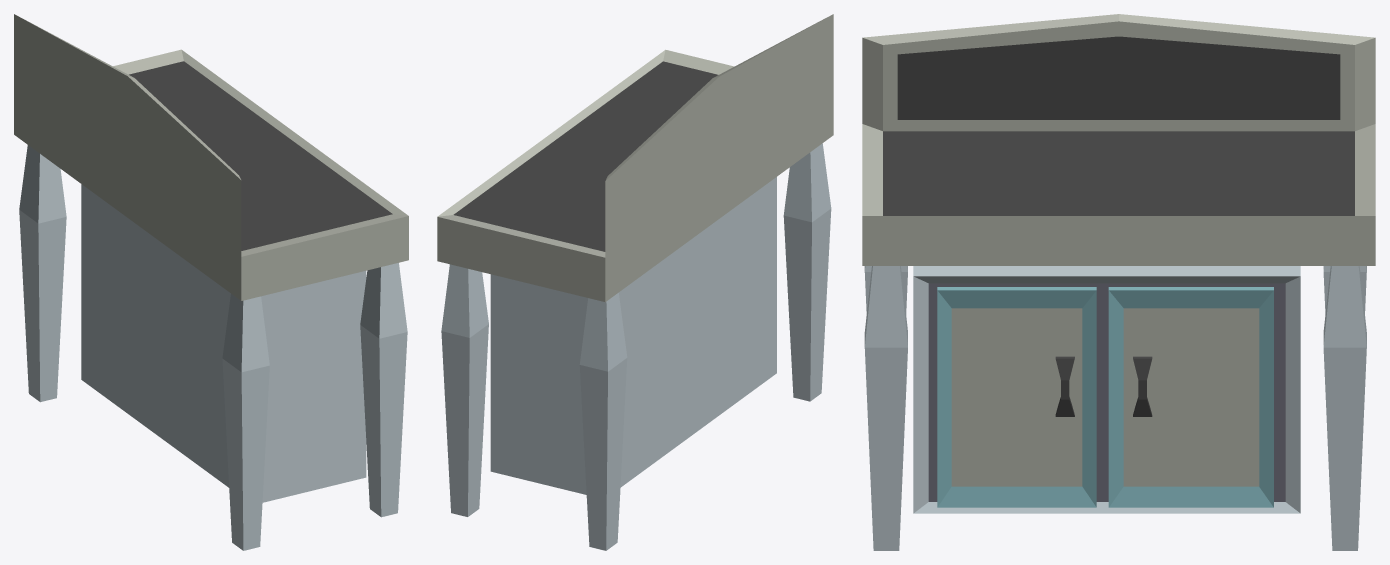
Rendered from chapa.fbx.
3 renders of one model, left to right at view 1: azimuth 30°, elevation 25°; view 2: azimuth 150°, elevation 25°; view 3: azimuth 270°, elevation 25°, orthographic. The views are drawn at different scales.
Visible parts, largest first — view 1: chapa; view 2: chapa; view 3: chapa.
Part boxes in pixels (x1,y1,x2,y2): chapa: (14, 14, 408, 550); chapa: (437, 14, 833, 550); chapa: (862, 14, 1375, 550).
Bounding box in the file's own units: 295 × 668 × 694.
